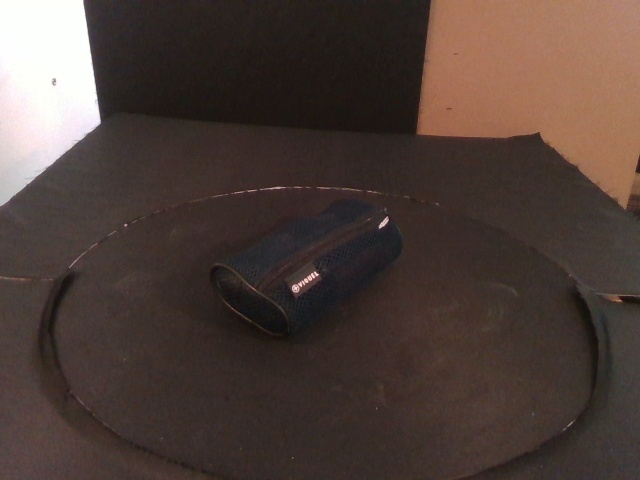pencil_case: (209, 198, 405, 339)
